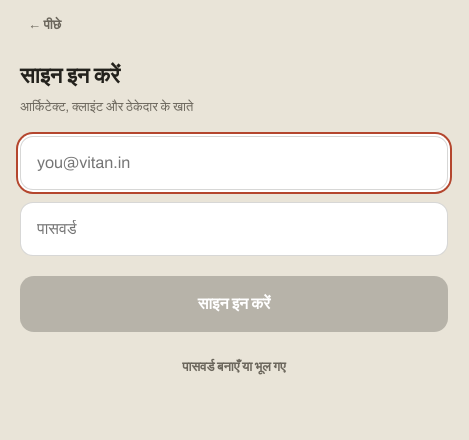
Test: every email and password sign-in screen in hi › a failed email sign-in says why in the same language, and a switch re-words it
The width and height of the screenshot is (469, 440).
Type "asha@vitan.in" into the field with test id "login-email" at (234, 163), box x1=20 y1=136 x2=448 y2=190
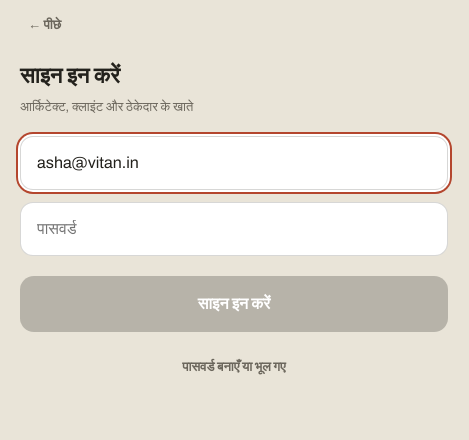
Type "wrong-password" into the password field with test id "login-password" at (234, 229), box x1=20 y1=202 x2=448 y2=256
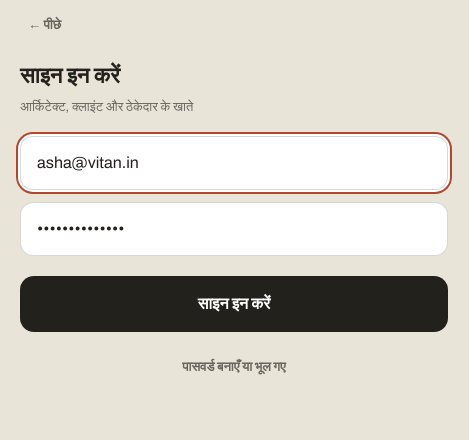
Click the button with test id "login-submit" at (234, 304), box x1=20 y1=276 x2=448 y2=332
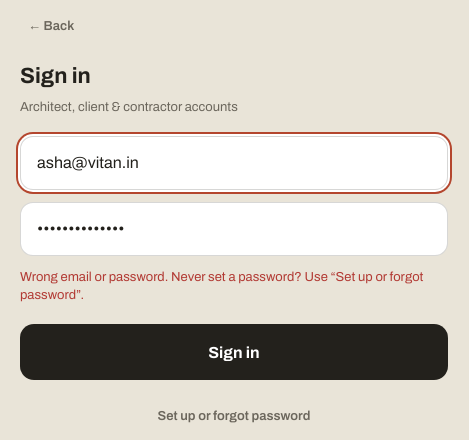
Now the element that starts with "Back" shows "Wrong email or password. Never set a password? Use “Set up or forgot password”.", box x1=20 y1=270 x2=423 y2=302
